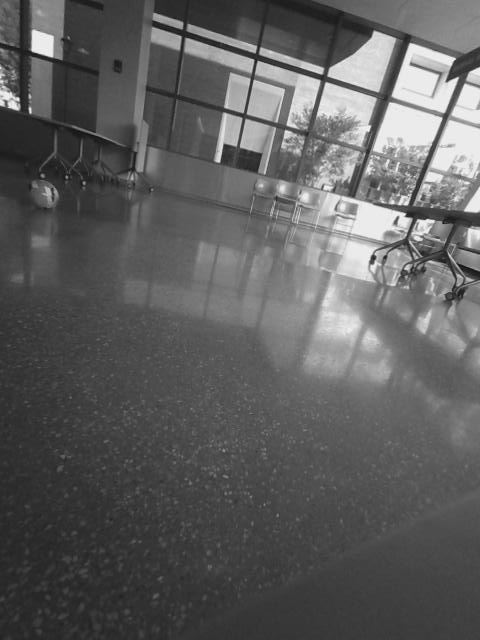ball: (23, 174, 65, 215)
